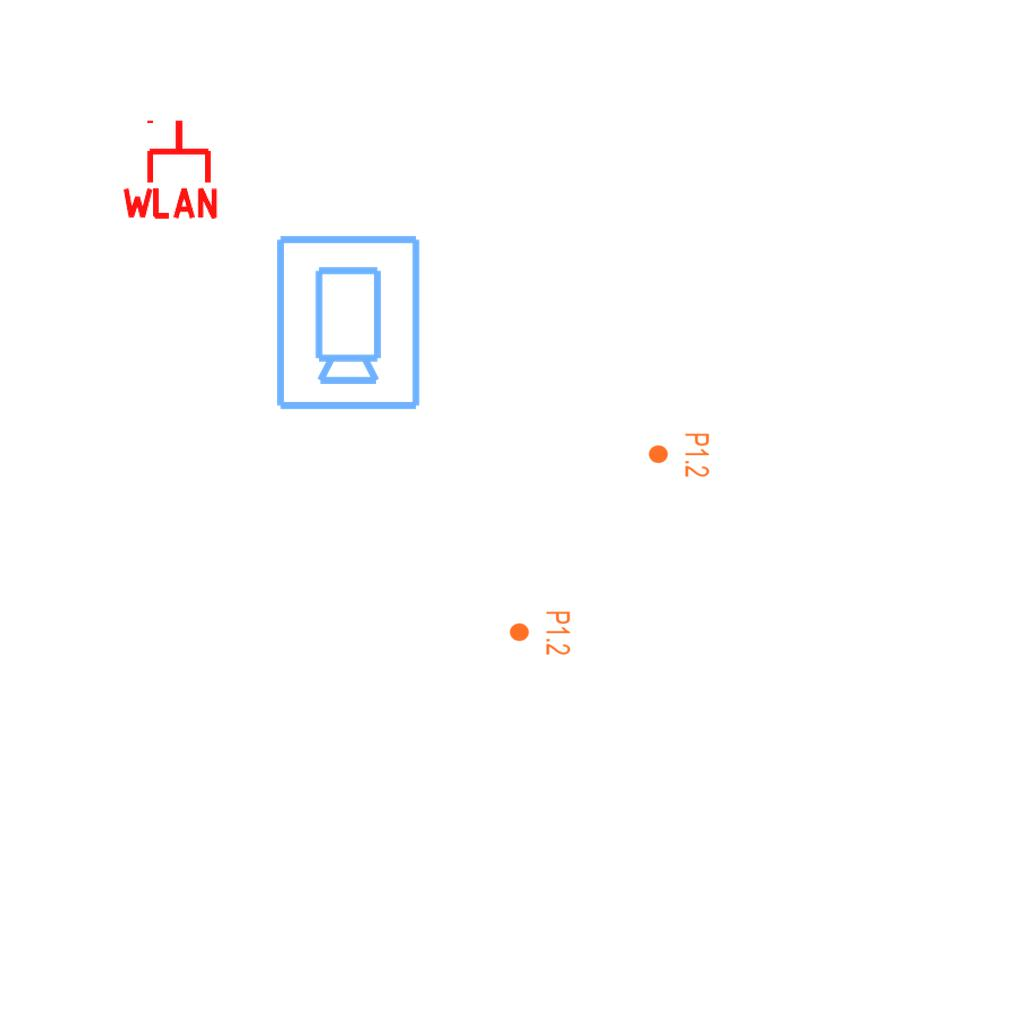Downlight_LED_Einbauleuchten_Flur: (647, 432, 711, 478), (508, 610, 572, 656)
KFO_Kamera_mit_Festobjektiv: (270, 231, 424, 413)
WLAN: (118, 116, 222, 221)
